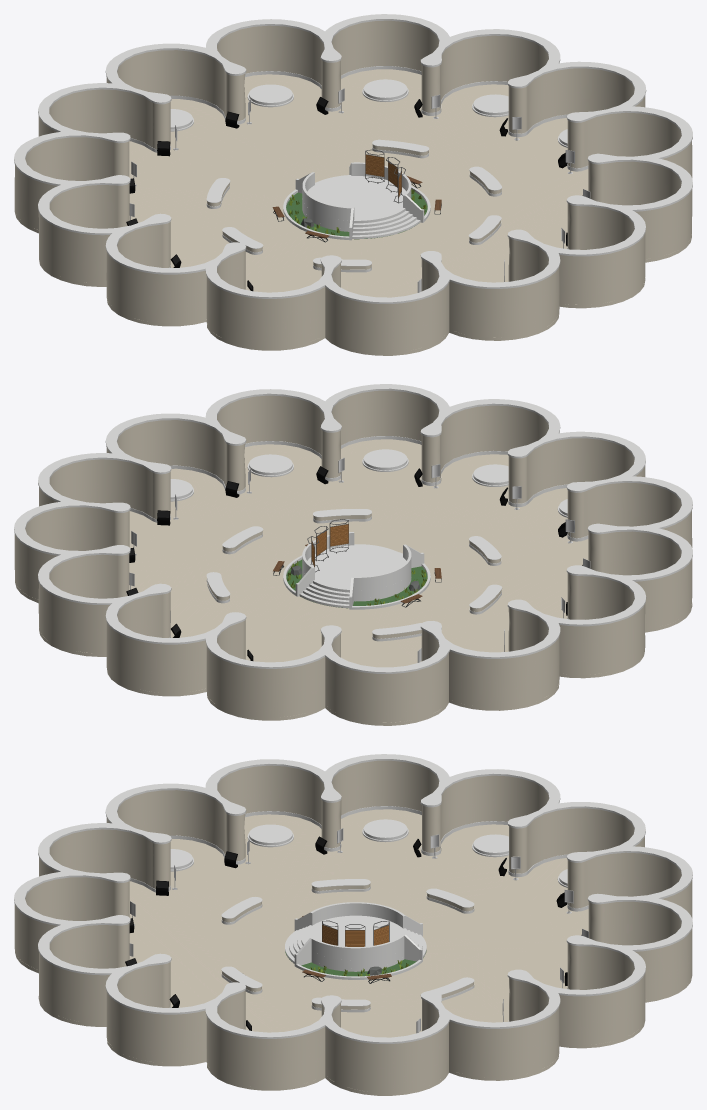
File: al-tahira-world.glb
3 views of the same model, one above another, from view 1: azimuth 30°, elevation 25°; view 2: azimuth 150°, elevation 25°; view 3: azimuth 270°, elevation 25° (orthographic).
Size of the model in its own units: 50.01 by 4.37 by 49.79.
Materials: 8 (8 with a texture image).
